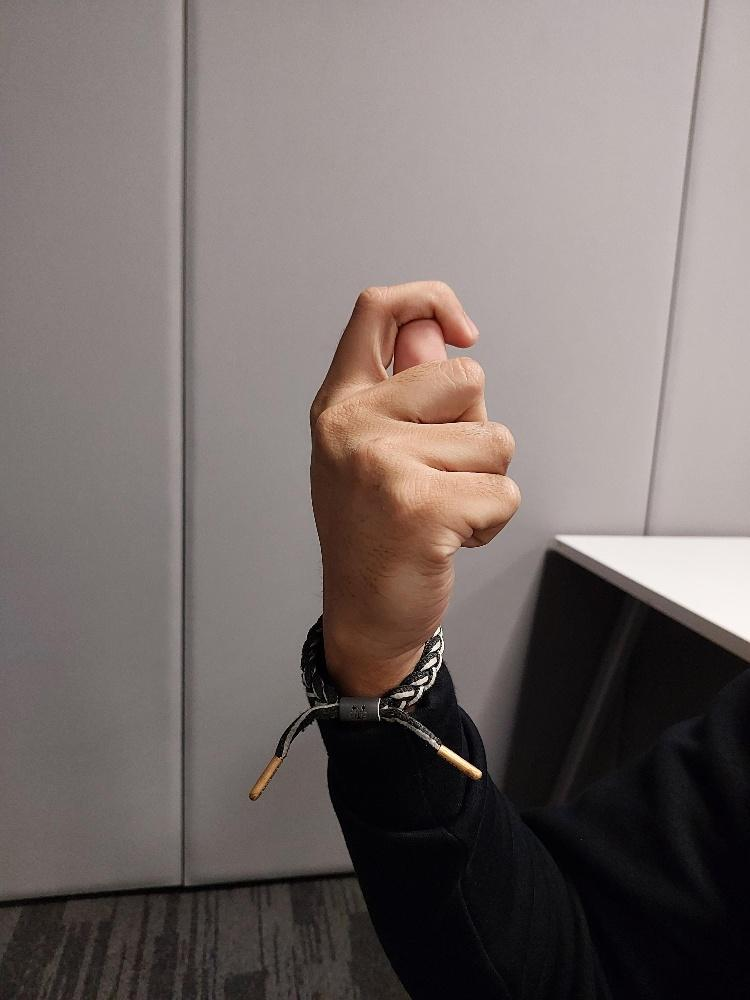t: (307, 275, 522, 717)
